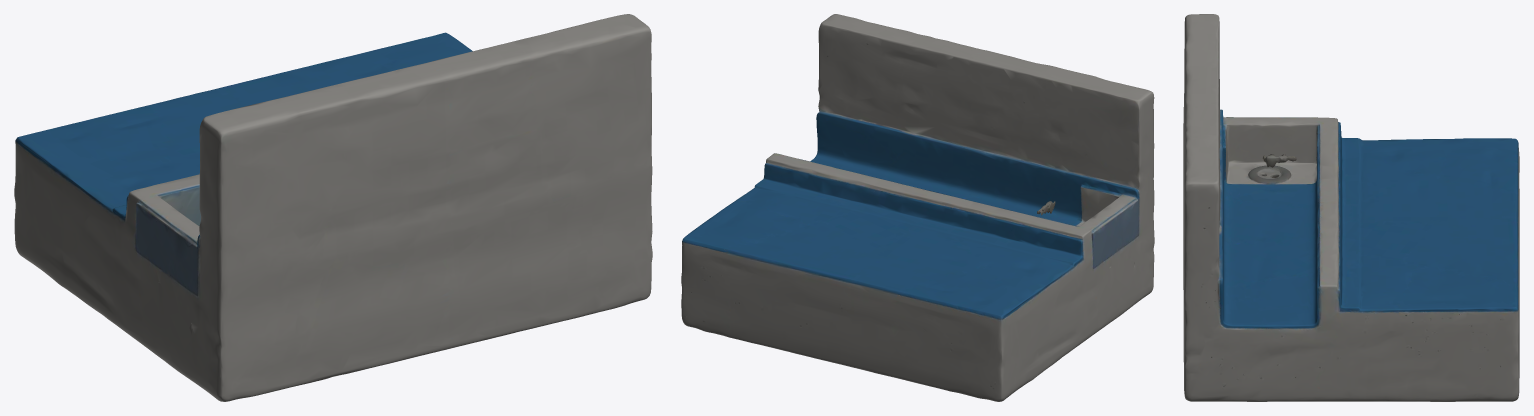
File: parapet-roof.glb
3 views of the same model, side by side, from view 1: azimuth 30°, elevation 25°; view 2: azimuth 150°, elevation 25°; view 3: azimuth 270°, elevation 25° (orthographic). The views are drawn at different scales.
Parts seen in each view (by area): view 1: tripo_node_ecc1c661-c4ec-4814-92d3-aed063740b39; view 2: tripo_node_ecc1c661-c4ec-4814-92d3-aed063740b39; view 3: tripo_node_ecc1c661-c4ec-4814-92d3-aed063740b39.
Boxes of the visible parts, x1,y1,x2,y2 form: tripo_node_ecc1c661-c4ec-4814-92d3-aed063740b39: [14, 14, 652, 401]; tripo_node_ecc1c661-c4ec-4814-92d3-aed063740b39: [681, 14, 1154, 401]; tripo_node_ecc1c661-c4ec-4814-92d3-aed063740b39: [1183, 14, 1519, 401].
Size of the model in its own units: 1 by 0.6128 by 0.8303.
Materials: 1 (1 with a texture image).
